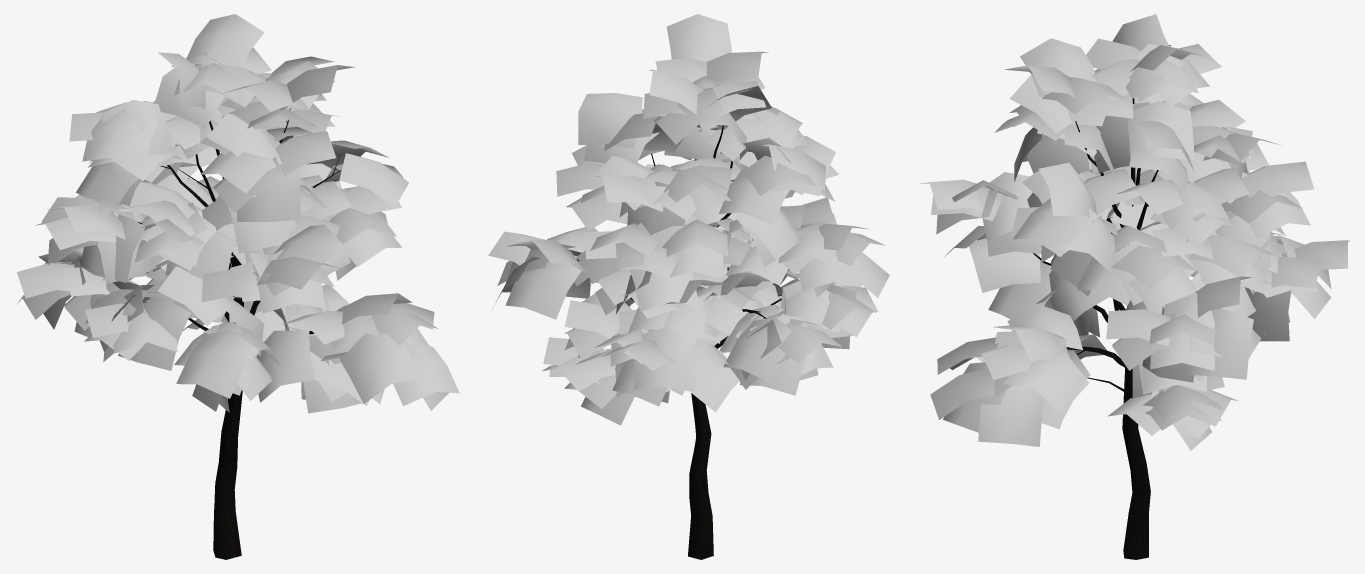
The model's file is tree_11.obj.
The picture shows the model from 3 angles, left to right: view 1: azimuth 30°, elevation 25°; view 2: azimuth 150°, elevation 25°; view 3: azimuth 270°, elevation 25°; orthographic projection. The views are drawn at different scales.
Parts seen in each view (by area): view 1: polySurface1041, polySurface101; view 2: polySurface1041, polySurface101; view 3: polySurface1041, polySurface101.
Part boxes in pixels (x1,y1,x2,y2): polySurface1041: (16,14,459,413); polySurface101: (79,108,341,559); polySurface1041: (488,14,889,425); polySurface101: (576,125,781,559); polySurface1041: (920,14,1349,450); polySurface101: (1033,98,1158,559).
Size of the model in its own units: 265 by 358 by 270.
